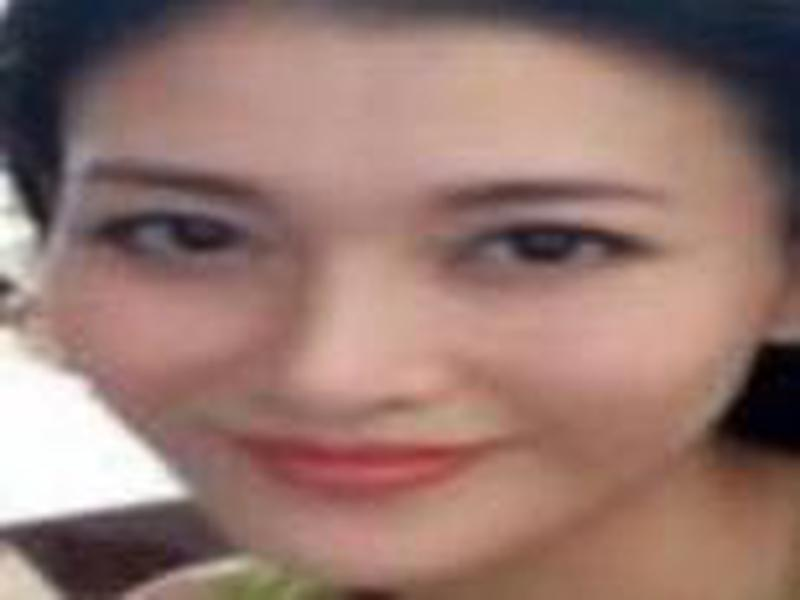without_mask: (46, 29, 770, 591)
